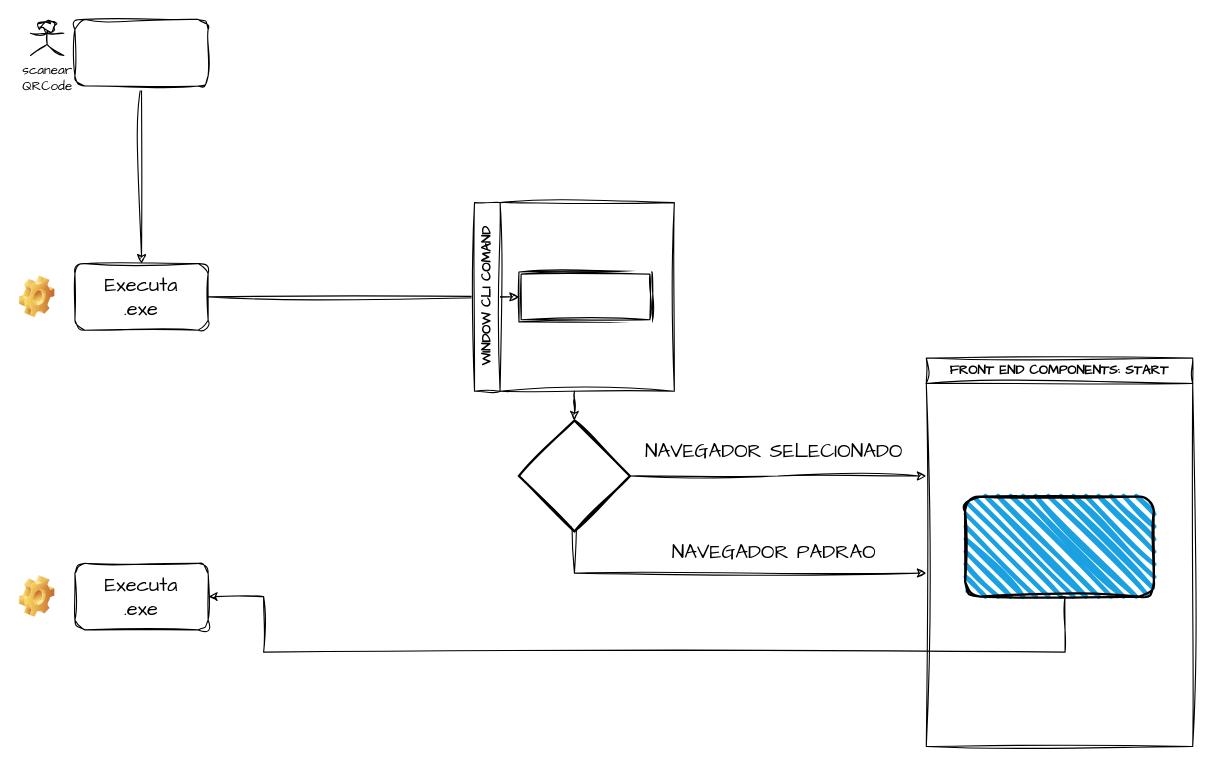
The diagram is 1212 pixels wide and 766 high, and some of its shapes have lost their labels. The box of each missing label's shape, as (x1, y1, x2, y2) in pixels:
CLIENT WHATSAPP: (74, 18, 208, 86)
INICIAR BOT: (963, 495, 1154, 597)
INSERE URL NAVEGADOR: (518, 271, 652, 322)
